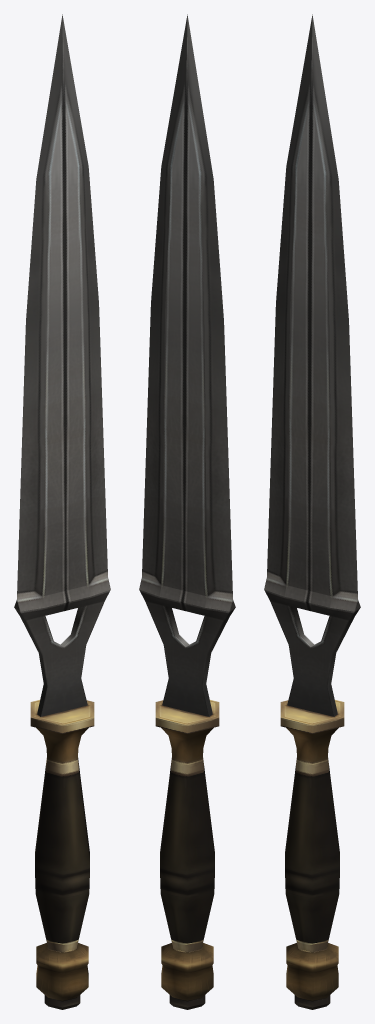
File: 96_weapon.FBX
3 views of the same model, side by side, from view 1: azimuth 30°, elevation 25°; view 2: azimuth 150°, elevation 25°; view 3: azimuth 330°, elevation 25° (orthographic).
Parts seen in each view (by area): view 1: 96_weapon; view 2: 96_weapon; view 3: 96_weapon.
Part boxes in pixels (<box>): 96_weapon: <box>14,14,110,1009</box>; 96_weapon: <box>139,14,235,1009</box>; 96_weapon: <box>264,14,360,1009</box>.
Size of the model in its own units: 164 by 1702 by 99.28.
